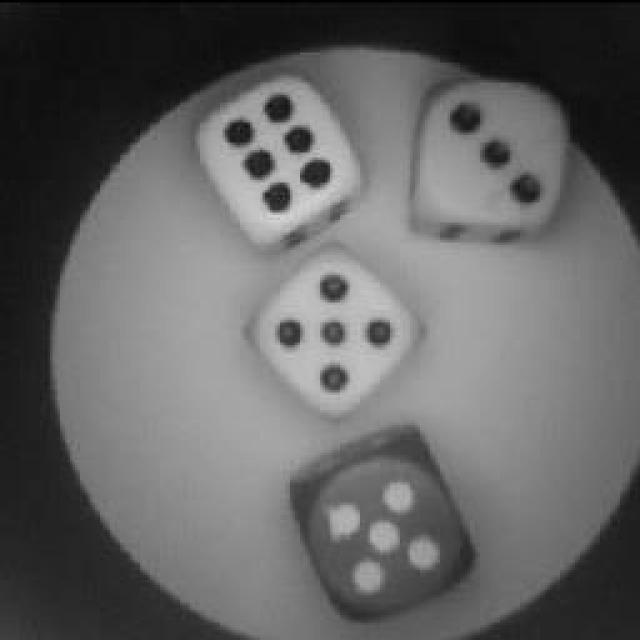dice_3: (408, 70, 572, 248)
dice_5: (290, 440, 472, 622), (250, 248, 418, 408)
dice_6: (197, 75, 365, 250)
